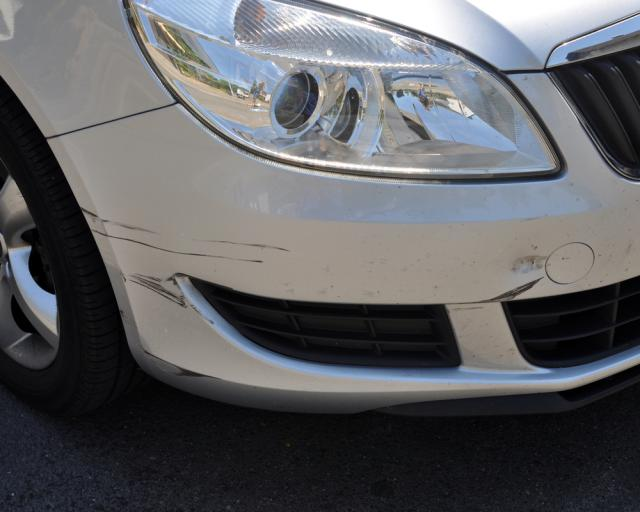dent: (509, 255, 543, 274)
scratch: (79, 208, 289, 381), (485, 274, 545, 301)
